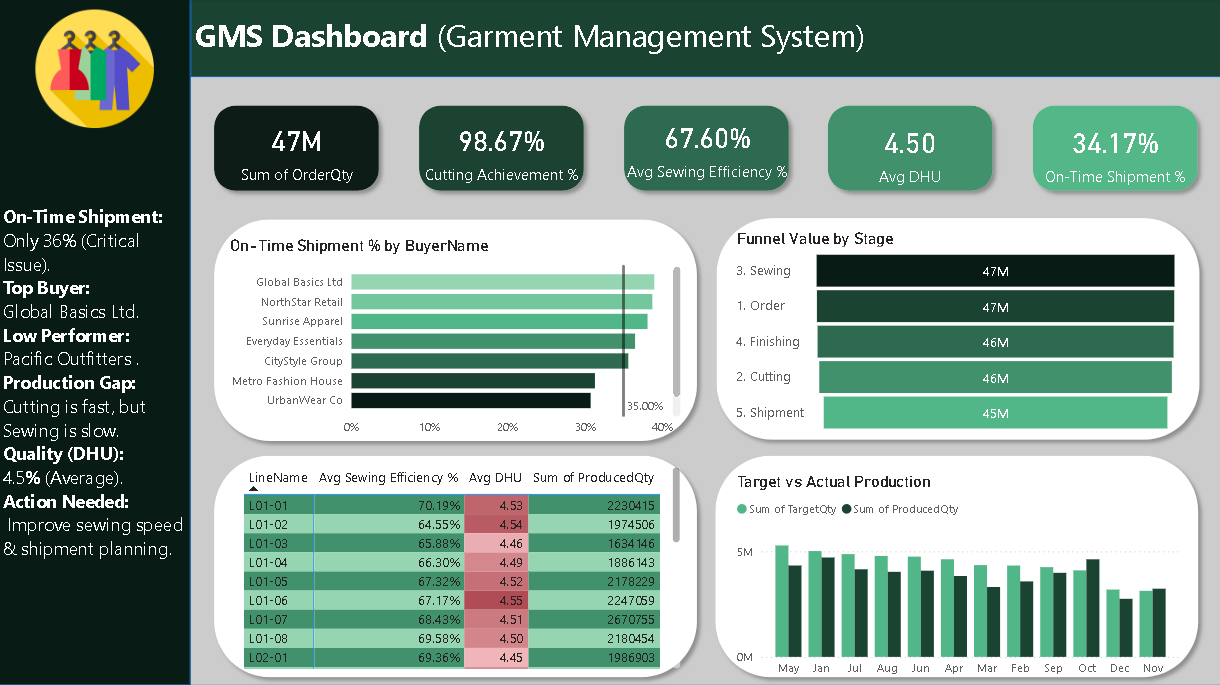

The dashboard page shown, as its layout file describes it:
{"tool":"powerbi","page":{"name":"Garments(GSM)","canvas":[1280,720],"ordinal":1},"visuals":[{"type":"shape","box":[0,0,1280.3,720.6],"z":0},{"type":"shape","box":[201.2,0,1078.8,83.8],"z":1000},{"type":"shape","box":[0,0,201.4,720],"z":2000},{"type":"shape","box":[431.7,105.3,190.4,107],"z":3000},{"type":"shape","box":[645.7,105.3,190.4,107],"z":4000},{"type":"shape","box":[859.7,105.3,190.4,107],"z":5000},{"type":"shape","box":[1073.7,105.3,190.4,107],"z":6000},{"type":"shape","box":[217.7,105.3,190.4,107],"z":7000},{"type":"card","fields":{"Values":["fact_order.OrderQty"]},"box":[201.4,81.1,222.3,158.2],"z":8000},{"type":"card","fields":{"Values":["*Measure.Cutting Achievement %"]},"box":[415.9,81.1,222.3,158.2],"z":9000},{"type":"card","fields":{"Values":["*Measure.Avg Sewing Efficiency %"]},"box":[630.3,78.5,223.6,158.2],"z":10000},{"type":"card","fields":{"Values":["*Measure.On-Time Shipment %"]},"box":[1058,83.7,222.3,158.2],"z":11000},{"type":"card","fields":{"Values":["*Measure.Avg DHU"]},"box":[843.5,83.7,222.3,158.2],"z":12000},{"type":"shape","box":[742.8,222.3,523.1,249.8],"z":13000},{"type":"shape","box":[741.5,470.8,523.1,249.8],"z":14000},{"type":"funnel","fields":{"Category":["Custom Column.Stage"],"Y":["*Measure.Funnel Value"]},"box":[767.6,241.9,473.4,218.4],"z":15000},{"type":"shape","box":[217.1,223.6,523.1,249.8],"z":16000},{"type":"shape","box":[217.1,470.8,523.1,249.8],"z":17000},{"type":"clusteredBarChart","fields":{"Category":["dim_buyer.BuyerName"],"Y":["*Measure.On-Time Shipment %"]},"box":[238,249.8,481.2,218.4],"z":18000},{"type":"pivotTable","fields":{"Rows":["dim_line.LineName"],"Values":["*Measure.Avg Sewing Efficiency %","*Measure.Avg DHU","fact_production_daily.ProducedQty"]},"box":[252.4,486.5,466.9,221],"z":19000},{"type":"clusteredColumnChart","title":"Target vs Actual Production","fields":{"Category":["dim_date.MonthName"],"Y":["fact_production_daily.TargetQty","fact_production_daily.ProducedQty"]},"box":[767.6,496.9,473.4,223.6],"z":20000},{"type":"textbox","box":[0,211.9,201.4,502.2],"z":21000},{"type":"textbox","box":[201.4,13.1,737.6,57.5],"z":21001},{"type":"image","box":[18.3,13.1,166.1,124.2],"z":21002}]}

Visuals, with their boxes in screenshot pixels (x1, y1, x2, y2), scaled from the page's 1280x720 canvas onto the 1220x685 screenshot:
shape: region(0, 0, 1219, 684)
shape: region(192, 0, 1219, 80)
shape: region(0, 0, 192, 684)
shape: region(411, 100, 593, 202)
shape: region(615, 100, 797, 202)
shape: region(819, 100, 1001, 202)
shape: region(1023, 100, 1205, 202)
shape: region(207, 100, 389, 202)
card - fact_order.OrderQty: region(192, 77, 404, 228)
card - *Measure.Cutting Achievement %: region(396, 77, 608, 228)
card - *Measure.Avg Sewing Efficiency %: region(601, 75, 814, 225)
card - *Measure.On-Time Shipment %: region(1008, 80, 1219, 230)
card - *Measure.Avg DHU: region(804, 80, 1016, 230)
shape: region(708, 211, 1207, 449)
shape: region(707, 448, 1205, 684)
funnel - Custom Column.Stage x *Measure.Funnel Value: region(732, 230, 1183, 438)
shape: region(207, 213, 706, 450)
shape: region(207, 448, 706, 684)
clusteredBarChart - dim_buyer.BuyerName x *Measure.On-Time Shipment %: region(227, 238, 685, 445)
pivotTable - dim_line.LineName x *Measure.Avg Sewing Efficiency %: region(241, 463, 686, 673)
"Target vs Actual Production" clusteredColumnChart: region(732, 473, 1183, 684)
textbox: region(0, 202, 192, 679)
textbox: region(192, 12, 895, 67)
image: region(17, 12, 176, 131)
